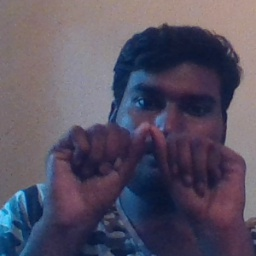A: (74, 117, 224, 220)
